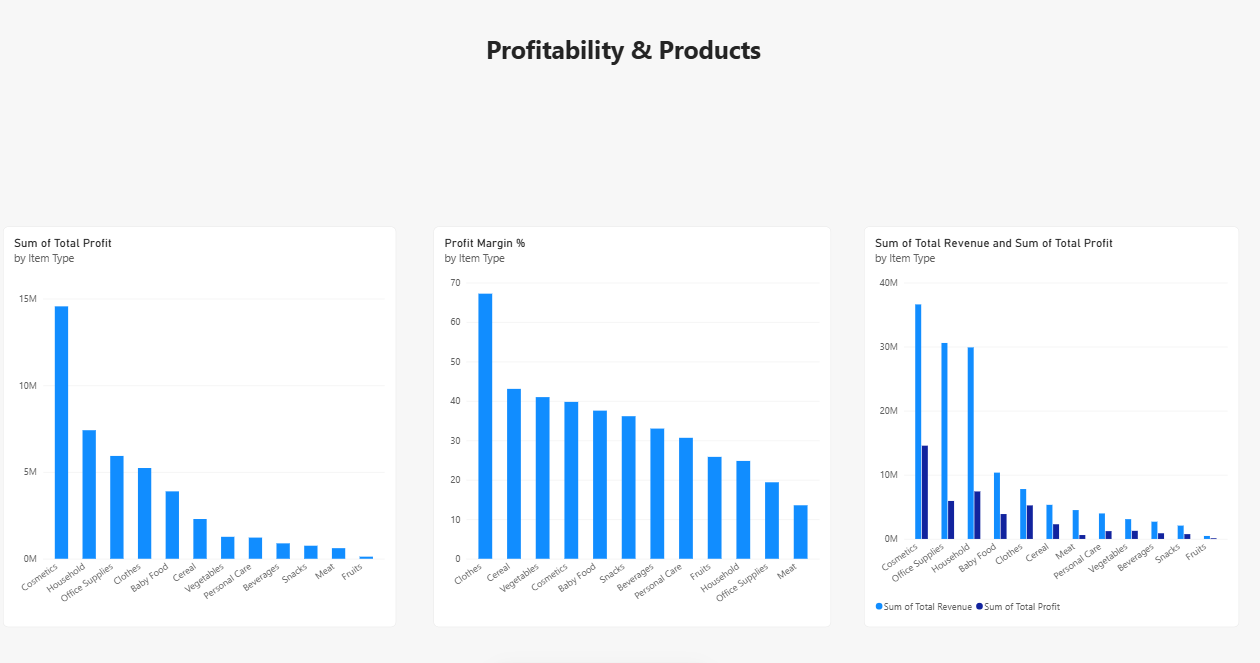

What the dashboard file says about the page in this screenshot:
{"tool":"powerbi","page":{"name":"Profitability & Products ","canvas":[1920,1080],"ordinal":1},"visuals":[{"type":"textbox","box":[9.1,0,1471.8,104.5],"z":0},{"type":"clusteredColumnChart","fields":{"Category":["financial_performance financial_sales_cleaned.Item Type"],"Y":["Sum(financial_performance financial_sales_cleaned.Total Profit)"]},"box":[9.1,343,595.1,606.4],"z":1},{"type":"clusteredColumnChart","fields":{"Category":["financial_performance financial_sales_cleaned.Item Type"],"Y":["financial_performance financial_sales_cleaned.Profit Margin %"]},"box":[661,343,601.9,606.4],"z":2},{"type":"clusteredColumnChart","fields":{"Category":["financial_performance financial_sales_cleaned.Item Type"],"Y":["Sum(financial_performance financial_sales_cleaned.Total Revenue)","Sum(financial_performance financial_sales_cleaned.Total Profit)"]},"box":[1312.8,343,567.8,606.4],"z":3}]}

Visuals, with their boxes on the page's 1920x1080 design canvas (x1, y1, x2, y2). These are canvas units, not pixel positions in the 1260x663 screenshot, which may show the page scaled, cropped or inside an application window:
textbox: [9, 0, 1481, 104]
clusteredColumnChart - financial_performance financial_sales_cleaned.Item Type x Sum(financial_performance financial_sales_cleaned.Total Profit): [9, 343, 604, 949]
clusteredColumnChart - financial_performance financial_sales_cleaned.Item Type x financial_performance financial_sales_cleaned.Profit Margin %: [661, 343, 1263, 949]
clusteredColumnChart - financial_performance financial_sales_cleaned.Item Type x Sum(financial_performance financial_sales_cleaned.Total Revenue): [1313, 343, 1881, 949]
